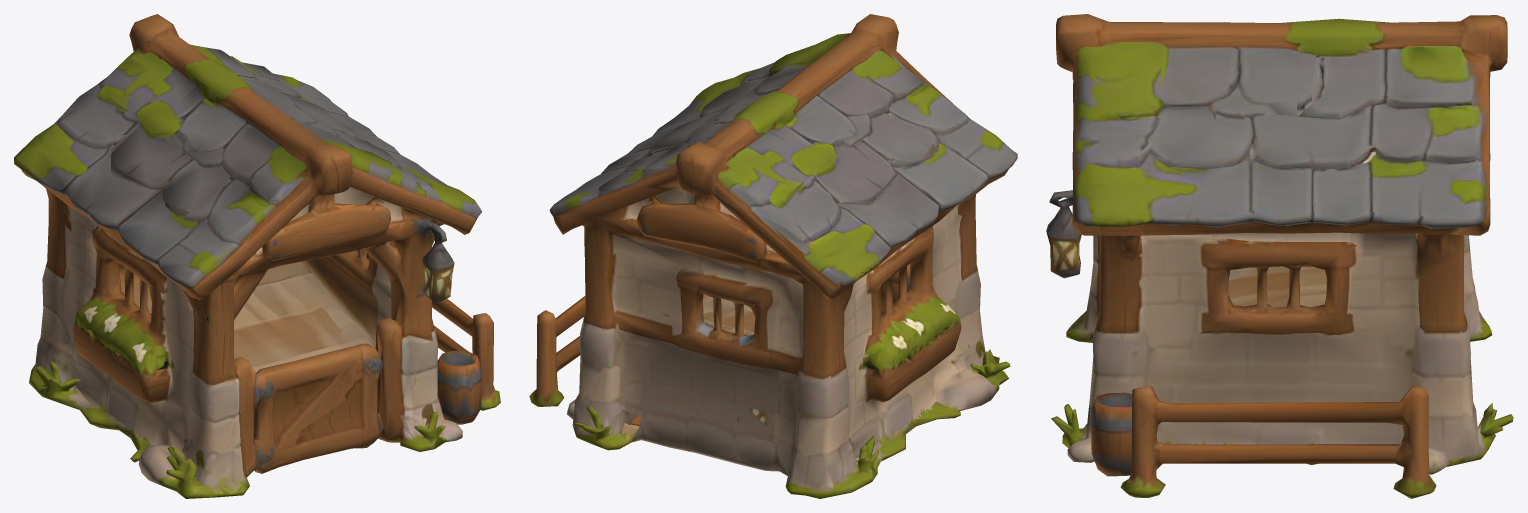
The picture shows the model from 3 angles, left to right: view 1: azimuth 30°, elevation 25°; view 2: azimuth 150°, elevation 25°; view 3: azimuth 270°, elevation 25°; orthographic projection. The views are drawn at different scales.
Visible parts, largest first — view 1: tripo_node_53b79d4a-67bd-43c6-ab93-d5aec6058f08; view 2: tripo_node_53b79d4a-67bd-43c6-ab93-d5aec6058f08; view 3: tripo_node_53b79d4a-67bd-43c6-ab93-d5aec6058f08.
Boxes of the visible parts, left/top/right/bottom form: tripo_node_53b79d4a-67bd-43c6-ab93-d5aec6058f08: left=14, top=14, right=500, bottom=498; tripo_node_53b79d4a-67bd-43c6-ab93-d5aec6058f08: left=529, top=14, right=1017, bottom=498; tripo_node_53b79d4a-67bd-43c6-ab93-d5aec6058f08: left=1046, top=14, right=1513, bottom=498.
Bounding box in the file's own units: 3.37 × 3 × 3.4.
Materials: 1 (1 with a texture image).
